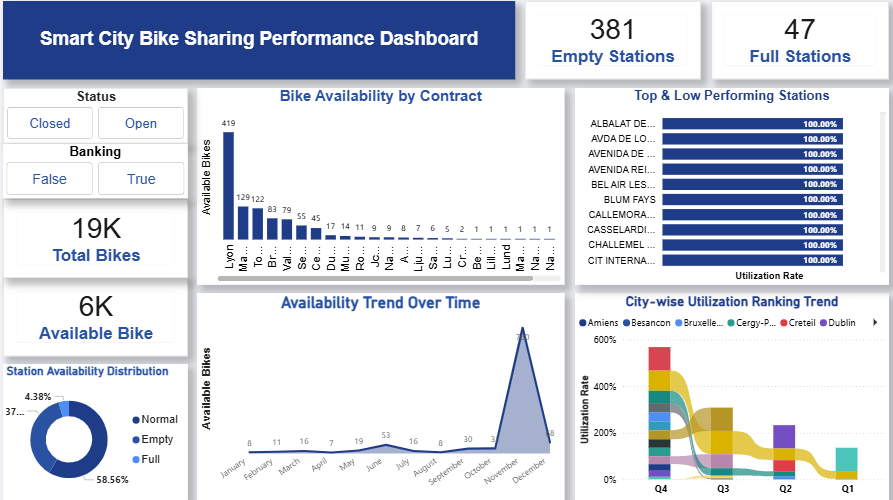

The page's visual inventory and layout, read from the dashboard file:
{"tool":"powerbi","page":{"name":"Page 2","canvas":[1280,720],"ordinal":1},"visuals":[{"type":"shape","box":[13.4,11.8,725.7,110.9],"z":0},{"type":"cardVisual","fields":{"Data":["Bike.Available Bike"]},"box":[12.8,403.9,262.2,110.6],"z":1000},{"type":"cardVisual","fields":{"Data":["Bike.Total Bikes"]},"box":[12.8,292,262.2,112],"z":2000},{"type":"cardVisual","fields":{"Data":["Bike.Full Stations"]},"box":[1016.3,11.8,252,110.9],"z":3000},{"type":"textbox","box":[13.4,11.8,725.7,110.9],"z":4000},{"type":"cardVisual","fields":{"Data":["Bike.Empty Stations"]},"box":[752.5,11.8,248.6,110.9],"z":5000},{"type":"clusteredColumnChart","title":"Bike Availability by Contract","fields":{"Category":["Bike.Contract Name"],"Y":["CountNonNull(Bike.Available Bikes)"]},"box":[287.2,134.4,520.7,278.8],"z":6000},{"type":"donutChart","title":"Station Availability Distribution","fields":{"Category":["Bike.Availability Status"],"Y":["CountNonNull(Bike.Station Number)"]},"box":[13.4,525.8,262,194.9],"z":7000},{"type":"areaChart","title":"Availability Trend Over Time","fields":{"Category":["Calendar.Date.Variation.Date Hierarchy.Year","Calendar.Date.Variation.Date Hierarchy.Month"],"Y":["CountNonNull(Bike.Available Bikes)"]},"box":[287.2,425,520.7,295.6],"z":8000},{"type":"ribbonChart","title":"City-wise Utilization Ranking Trend","fields":{"Category":["Calendar.Quarter"],"Y":["Bike.Utilization Rate"],"Series":["Bike.Contract Name"]},"box":[823.1,425,445.1,295.6],"z":9000},{"type":"clusteredBarChart","title":"Top & Low Performing Stations","fields":{"Category":["Bike.Station Name"],"Y":["Bike.Utilization Rate"]},"box":[823.1,134.4,445.1,278.8],"z":10000},{"type":"advancedSlicerVisual","fields":{"Values":["Bike.Status"]},"box":[13.4,134.4,262,79],"z":11000},{"type":"advancedSlicerVisual","fields":{"Values":["Bike.Banking"]},"box":[13.4,213.3,262,77.3],"z":12000}]}

Visuals, with their boxes in screenshot pixels (x1, y1, x2, y2), scaled from the page's 1280x720 canvas onto the 893x500 screenshot:
shape: detection(9, 8, 516, 85)
cardVisual - Bike.Available Bike: detection(9, 280, 192, 357)
cardVisual - Bike.Total Bikes: detection(9, 203, 192, 281)
cardVisual - Bike.Full Stations: detection(709, 8, 885, 85)
textbox: detection(9, 8, 516, 85)
cardVisual - Bike.Empty Stations: detection(525, 8, 698, 85)
"Bike Availability by Contract" clusteredColumnChart: detection(200, 93, 564, 287)
"Station Availability Distribution" donutChart: detection(9, 365, 192, 499)
"Availability Trend Over Time" areaChart: detection(200, 295, 564, 499)
"City-wise Utilization Ranking Trend" ribbonChart: detection(574, 295, 885, 499)
"Top & Low Performing Stations" clusteredBarChart: detection(574, 93, 885, 287)
advancedSlicerVisual - Bike.Status: detection(9, 93, 192, 148)
advancedSlicerVisual - Bike.Banking: detection(9, 148, 192, 202)
